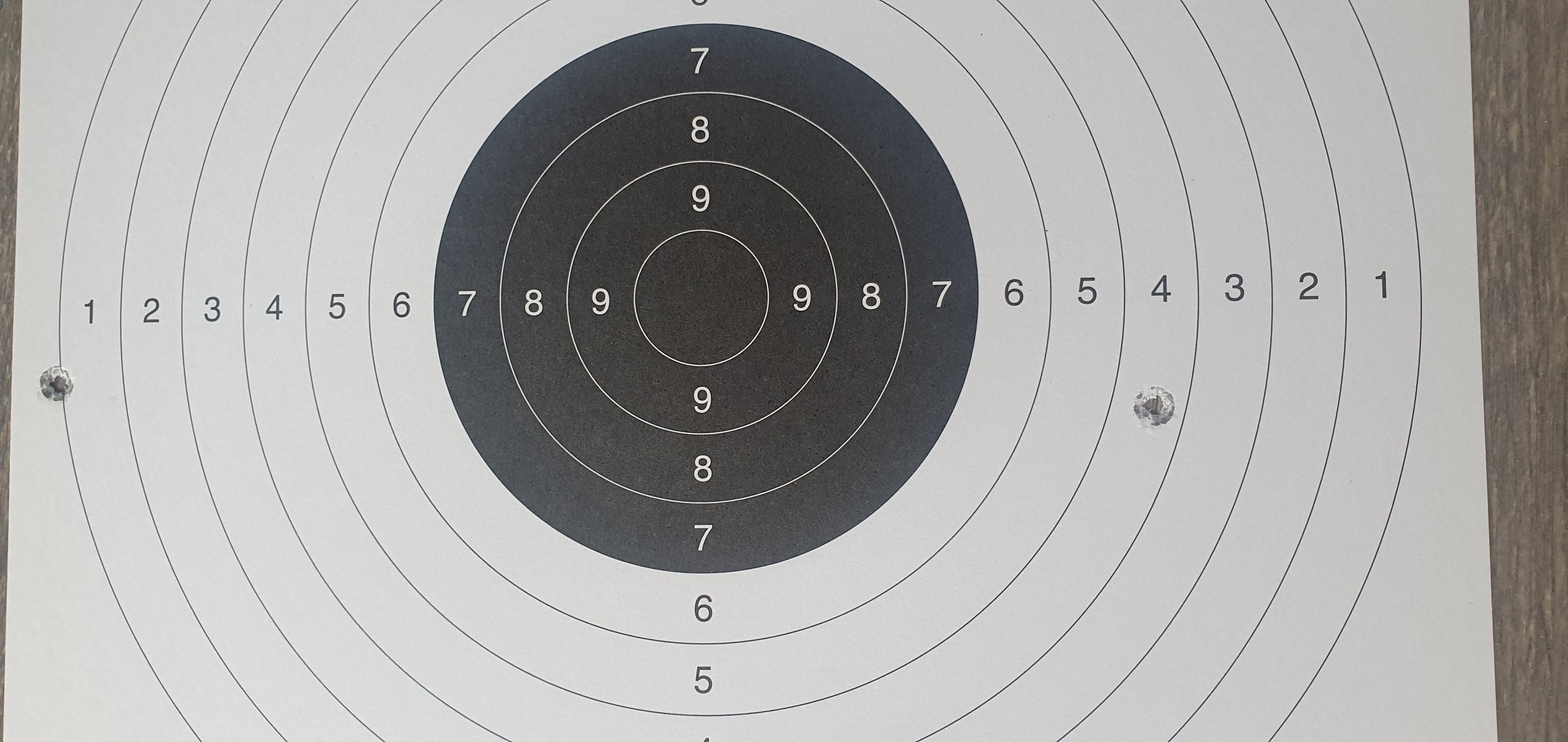hole: (658, 535, 756, 557), (711, 18, 798, 36)
